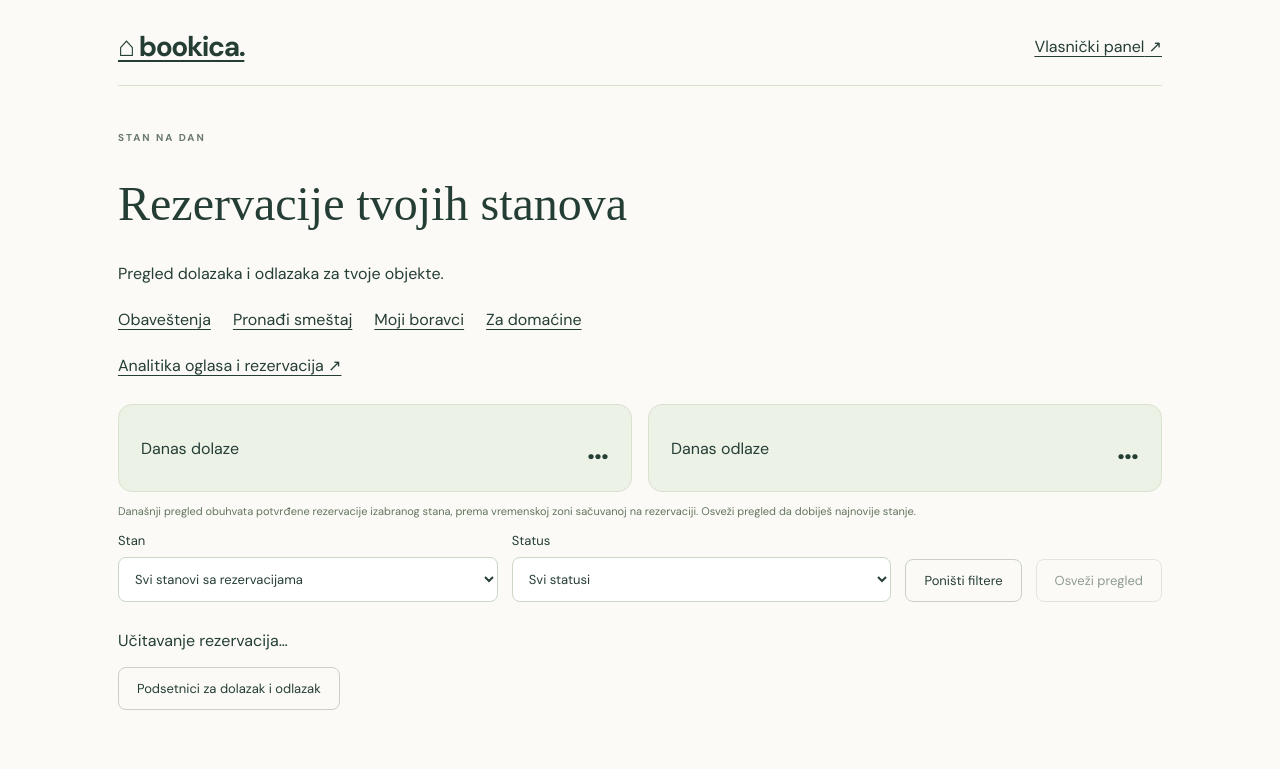
Test: ignores an old response after changing filters and aborts it
Select "Potvrđene" in the dropdown labelled "Status" at (702, 579), box [512,557,891,602]
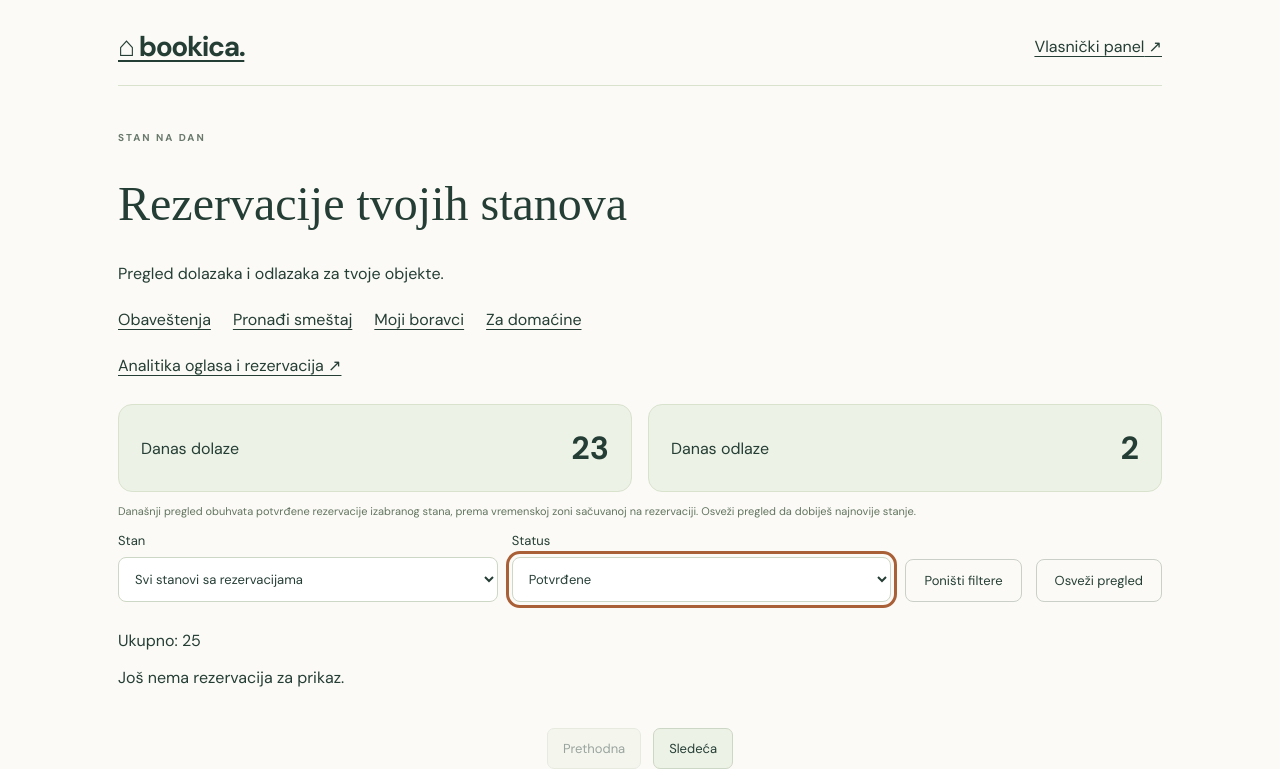
Expected: the text "Ukupno: 25" is shown, [118,630,201,651]
